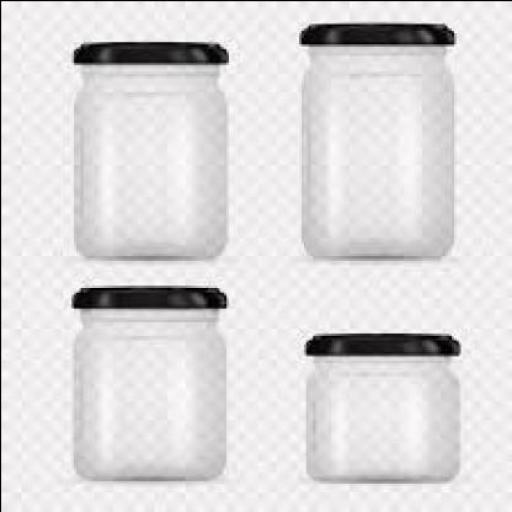glass: (303, 43, 458, 257), (75, 62, 225, 257), (73, 308, 225, 480), (307, 352, 460, 480)
metal: (75, 282, 228, 308), (300, 20, 458, 44), (75, 38, 230, 62), (307, 331, 462, 355)
